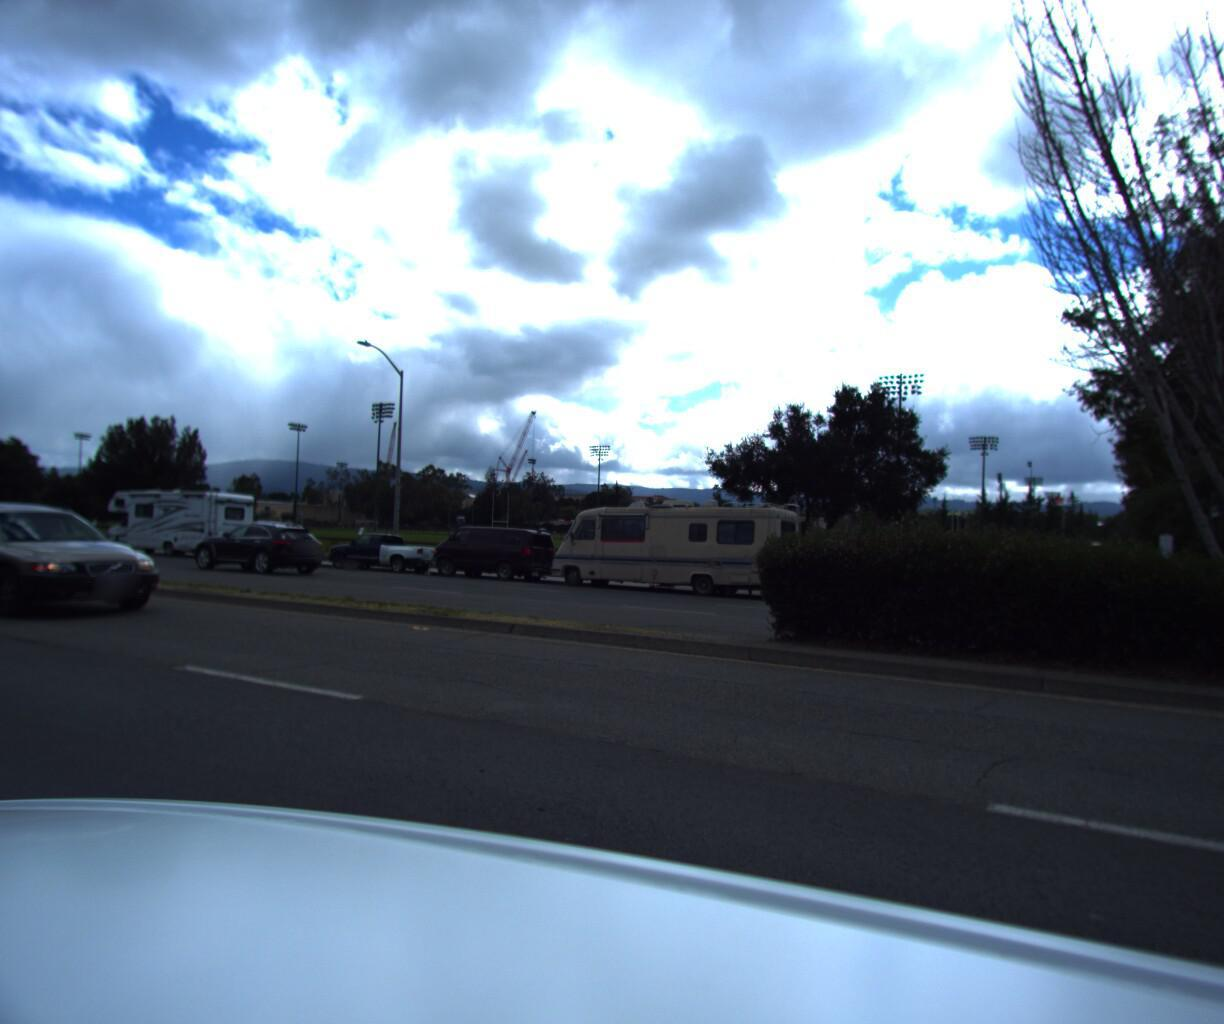car: (0, 493, 187, 627), (181, 516, 336, 580), (416, 524, 559, 588), (317, 532, 448, 580)
other_vehicle: (534, 494, 838, 612), (86, 483, 262, 563)
